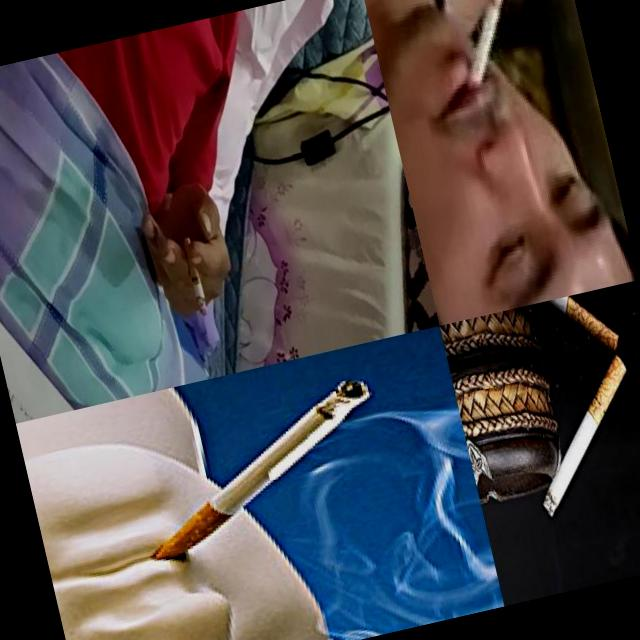smoke: (119, 372, 399, 568), (512, 350, 640, 521), (442, 0, 527, 102), (182, 235, 208, 318)
